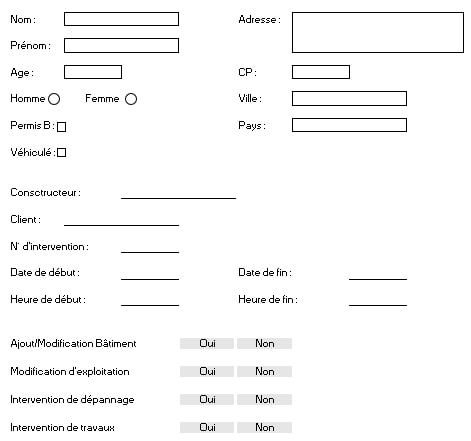input: (288, 8, 466, 57), (57, 3, 184, 33), (55, 36, 198, 60), (285, 114, 423, 138), (105, 185, 250, 206), (57, 214, 196, 235), (285, 88, 416, 109), (332, 296, 420, 319), (336, 267, 427, 289), (284, 60, 356, 86), (110, 296, 196, 317), (58, 63, 131, 85), (110, 242, 190, 262), (110, 270, 190, 288)
text: (7, 334, 140, 356), (6, 362, 135, 383), (7, 391, 138, 411), (3, 289, 89, 316), (7, 419, 122, 438), (3, 182, 86, 204), (4, 238, 94, 258), (226, 291, 310, 312), (4, 263, 87, 284), (233, 259, 294, 284), (5, 142, 55, 164), (234, 7, 283, 28), (6, 36, 54, 56), (6, 117, 55, 134), (6, 210, 44, 231), (77, 91, 123, 108), (226, 63, 263, 83), (5, 7, 40, 28), (226, 89, 271, 105), (8, 63, 40, 85), (233, 117, 270, 136), (5, 91, 45, 107)
